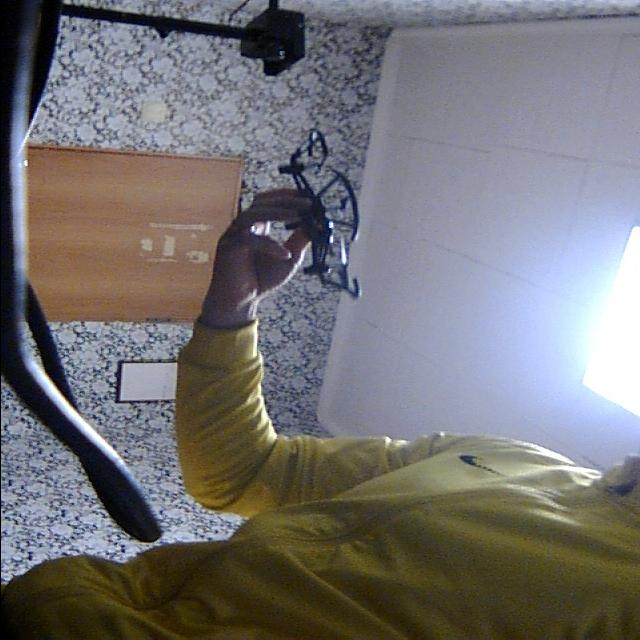drone: (290, 115, 372, 306)
